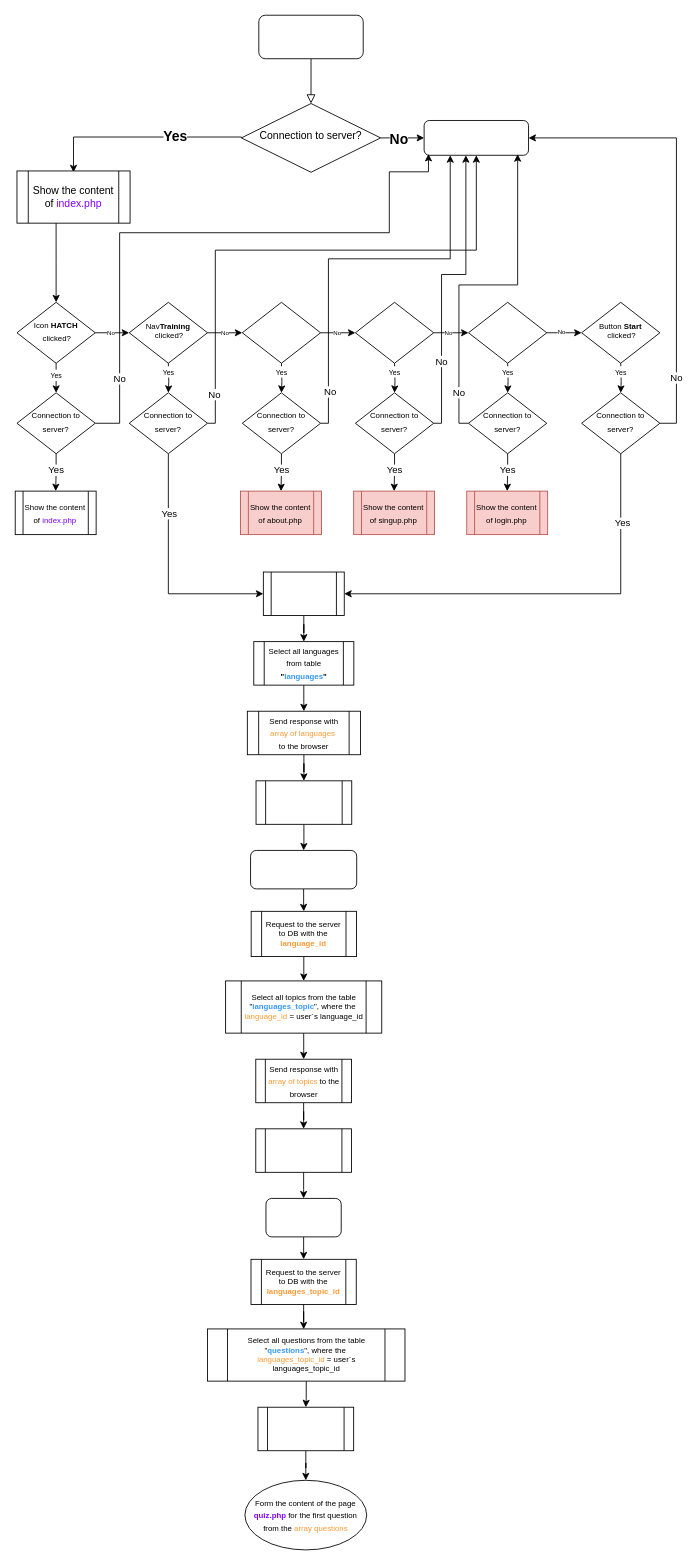
Some shapes in this 699 by 1565 pixel diagram are drawn without their labels. Here are the shapes that lost their labels. From the top down, the box of each, then its label:
(258, 14, 363, 59): User enters website address in browser
(423, 120, 529, 155): Error message
(241, 301, 321, 363): Nav About clicked?
(355, 301, 434, 363): Nav Sing up clicked?
(468, 301, 547, 363): Nav Login clicked?
(262, 571, 344, 616): Request to server with DB
(255, 780, 352, 824): Form the content of the page languages.php
(250, 850, 357, 889): User chosed preffered programming language
(255, 1128, 351, 1172): Form the content of the page topics.php
(265, 1198, 341, 1237): User chosed preffered topic
(257, 1406, 354, 1451): Send response with array of questions to the browser
